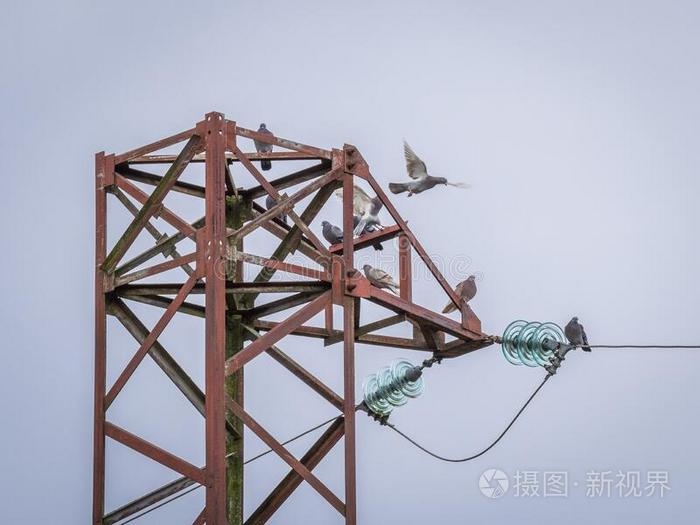insulator: (362, 356, 424, 415), (501, 318, 564, 368)
